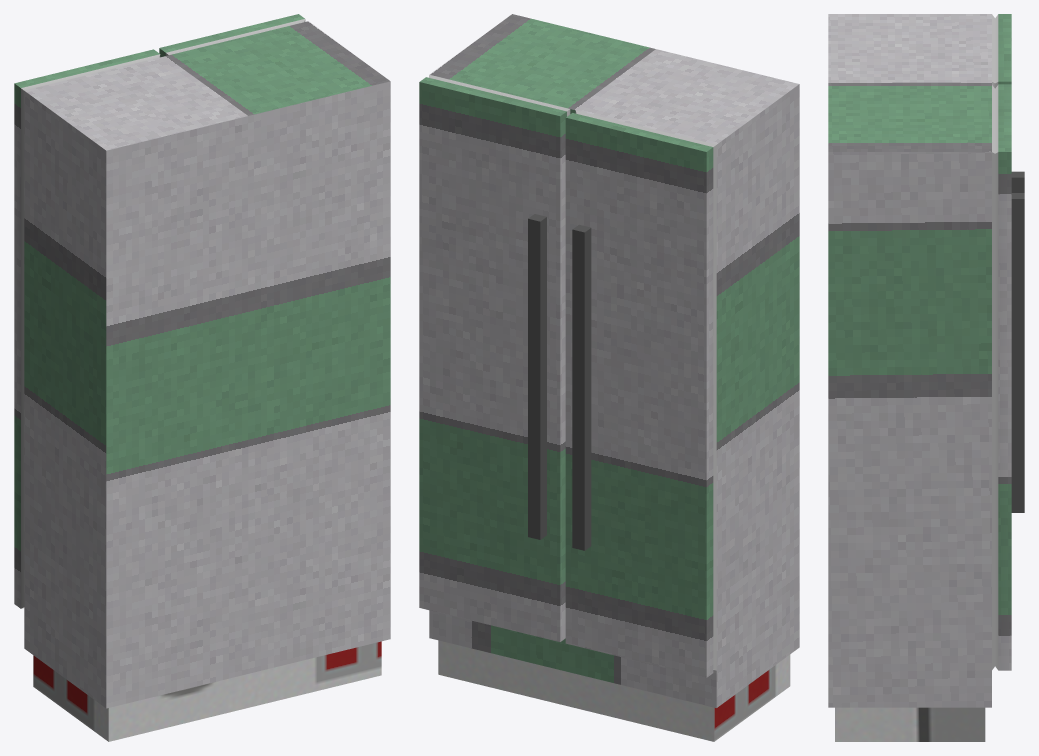
Rendered from Fridge.fbx.
3 views of the same model, side by side, from view 1: azimuth 30°, elevation 25°; view 2: azimuth 150°, elevation 25°; view 3: azimuth 270°, elevation 25° (orthographic).
Parts seen in each view (by area): view 1: Fridge; view 2: Fridge; view 3: Fridge.
Part boxes in pixels (x1=…): Fridge: x1=14, y1=14, x2=390, y2=741; Fridge: x1=419, y1=14, x2=799, y2=741; Fridge: x1=828, y1=14, x2=1024, y2=741.
Size of the model in its own units: 100 by 200 by 60.
